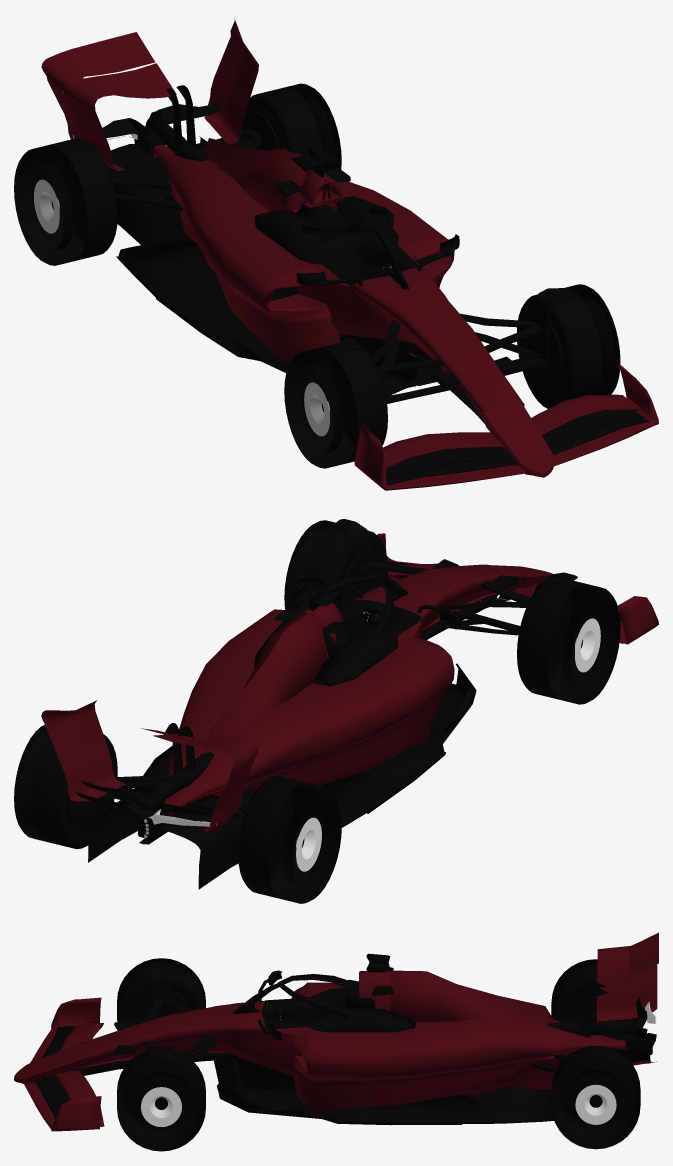
The picture shows the model from 3 angles, top to bottom: view 1: azimuth 30°, elevation 25°; view 2: azimuth 150°, elevation 25°; view 3: azimuth 270°, elevation 25°; orthographic projection. The views are drawn at different scales.
Visible parts, largest first — view 1: Plane.030, Plane.004, Plane.053, Cylinder.019, Cylinder.018, Plane.016, Cylinder.007, Plane.031, Cylinder.004, Plane.022, Plane, Plane.045 (+19 smaller); view 2: Plane.030, Cylinder.019, Cylinder.018, Plane.053, Plane.031, Plane.016, Cylinder.004, Plane, Plane.004, Plane.022, Cylinder.007, Plane.020 (+11 smaller); view 3: Plane, Plane.004, Plane.016, Cylinder.004, Cylinder.007, Plane.031, Plane.053, Cylinder.018, Plane.002, Plane.005, Cylinder.019, Plane.035 (+19 smaller).
Boxes of the visible parts, left/top/right/bottom form: Plane.030: left=153, top=144, right=352, bottom=358; Plane.004: left=297, top=258, right=524, bottom=424; Plane.053: left=41, top=18, right=258, bottom=170; Cylinder.019: left=14, top=138, right=117, bottom=265; Cylinder.018: left=284, top=343, right=387, bottom=468; Plane.016: left=116, top=234, right=433, bottom=391; Cylinder.007: left=517, top=284, right=620, bottom=408; Plane.031: left=202, top=138, right=344, bottom=212; Cylinder.004: left=240, top=83, right=341, bottom=171; Plane.022: left=107, top=136, right=206, bottom=244; Plane: left=158, top=144, right=454, bottom=287; Plane.045: left=481, top=403, right=554, bottom=477; Plane.030: left=165, top=619, right=454, bottom=816; Cylinder.019: left=238, top=776, right=341, bottom=903; Cylinder.018: left=517, top=581, right=620, bottom=704; Plane.053: left=41, top=700, right=258, bottom=833; Plane.031: left=204, top=602, right=343, bottom=754; Plane.016: left=134, top=663, right=476, bottom=827; Cylinder.004: left=14, top=724, right=117, bottom=849; Plane: left=158, top=609, right=295, bottom=804; Plane.004: left=352, top=564, right=523, bottom=639; Plane.022: left=88, top=782, right=242, bottom=889; Cylinder.007: left=284, top=520, right=387, bottom=610; Plane.020: left=313, top=605, right=421, bottom=686; Plane: left=266, top=1019, right=625, bottom=1111; Plane.004: left=80, top=1001, right=307, bottom=1079; Plane.016: left=217, top=1081, right=554, bottom=1125; Cylinder.004: left=551, top=1045, right=640, bottom=1149; Cylinder.007: left=117, top=1049, right=205, bottom=1151; Plane.031: left=359, top=970, right=555, bottom=1024; Plane.053: left=597, top=932, right=658, bottom=1065; Cylinder.018: left=117, top=958, right=205, bottom=1022; Plane.002: left=261, top=1007, right=416, bottom=1032; Plane.005: left=23, top=1082, right=101, bottom=1131; Cylinder.019: left=551, top=959, right=638, bottom=1028; Plane.035: left=30, top=997, right=101, bottom=1062.
Bounding box in the file's own units: 1.78 × 1.08 × 4.45.
